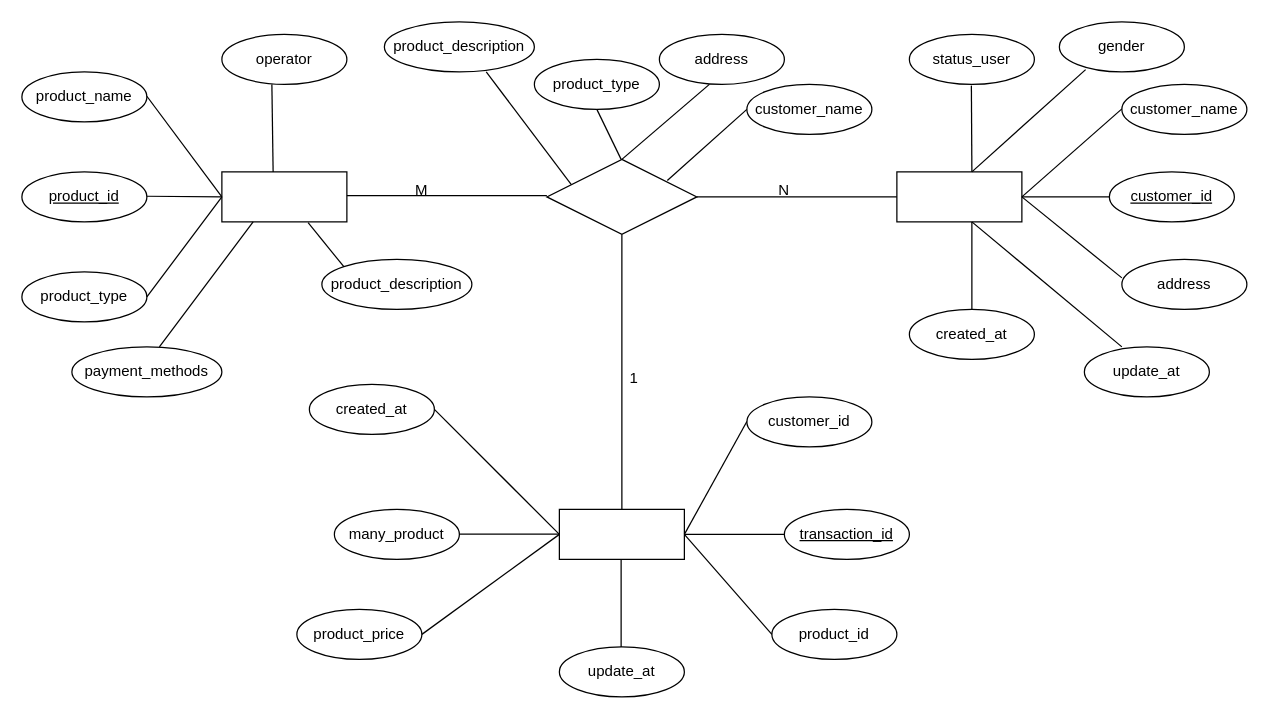
This 1269x719 diagram has some shape labels left out. Here are the shapes that lost their labels. From the top down, the centre of each, then its label:
At [284,196]: "product".
At [621,196]: "membeli".
At [959,196]: "customer".
At [621,533]: "transaksi".
